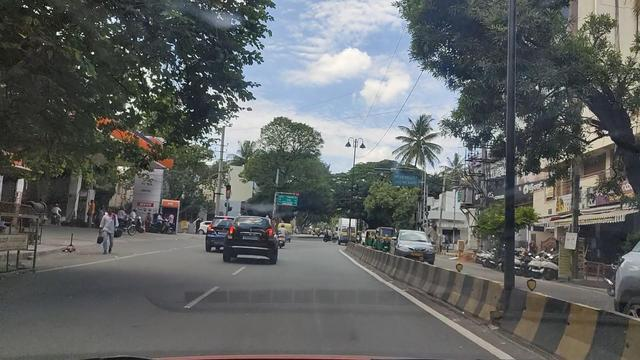LMV: (228, 216, 280, 269)
